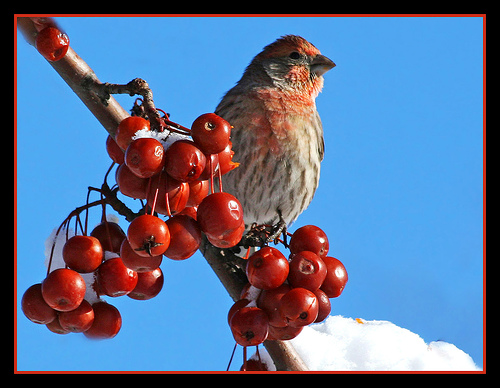apple: (126, 211, 174, 259), (246, 243, 292, 291), (39, 269, 89, 313), (195, 189, 245, 230), (122, 135, 167, 179), (287, 248, 329, 292), (61, 236, 104, 275)
